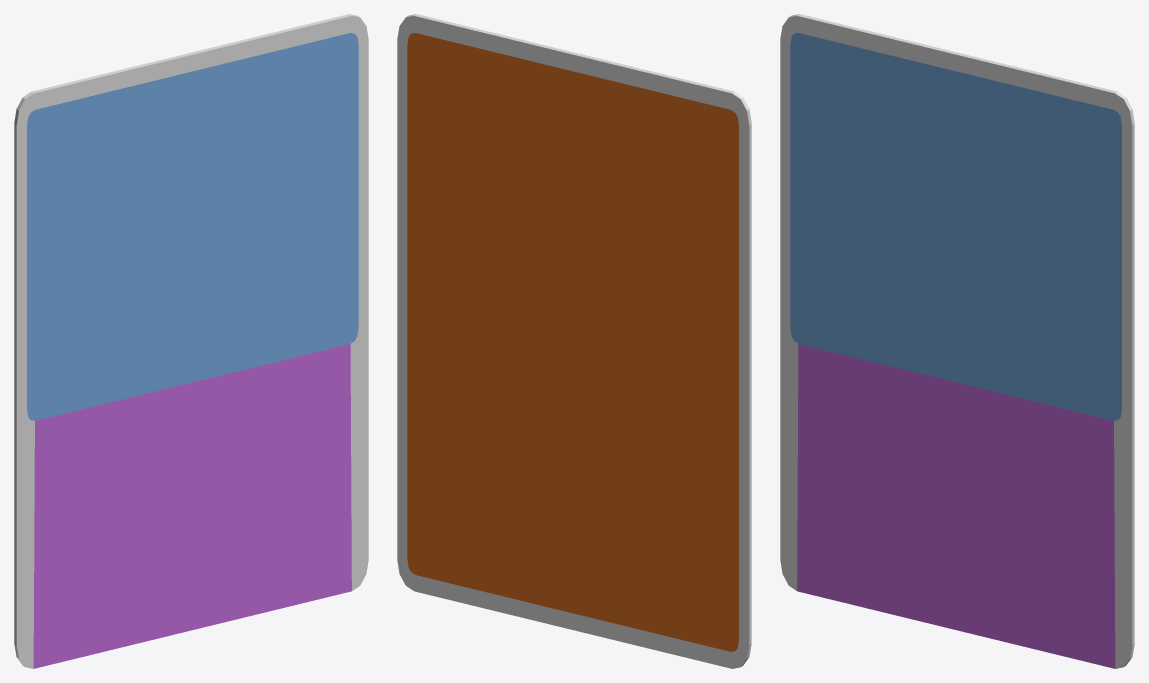
The model's file is Card.fbx.
The picture shows the model from 3 angles, left to right: view 1: azimuth 30°, elevation 25°; view 2: azimuth 150°, elevation 25°; view 3: azimuth 330°, elevation 25°; orthographic projection.
Parts seen in each view (by area): view 1: Cube; view 2: Cube; view 3: Cube.
Boxes of the visible parts, left/top/right/bottom form: Cube: left=14, top=14, right=368, bottom=668; Cube: left=397, top=14, right=751, bottom=668; Cube: left=780, top=14, right=1134, bottom=668.
Bounding box in the file's own units: 320 × 500 × 4.
